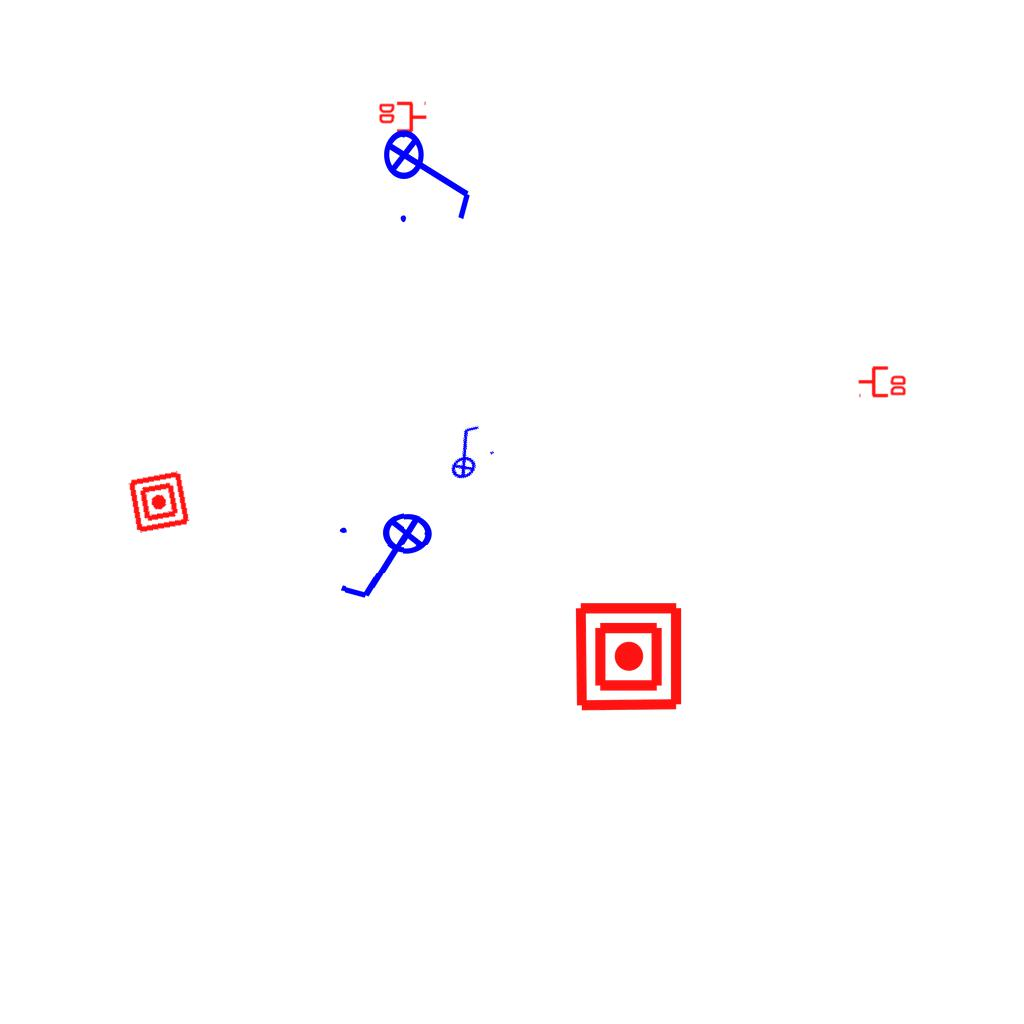Ausschalter_beleuchtet: (331, 509, 447, 609), (382, 116, 478, 228), (429, 417, 501, 487)
Datenanschluss_zweifach: (377, 101, 428, 135), (857, 364, 908, 398)
NAM-Nichtautomatischer_Melder: (572, 600, 685, 713), (126, 469, 192, 535)
